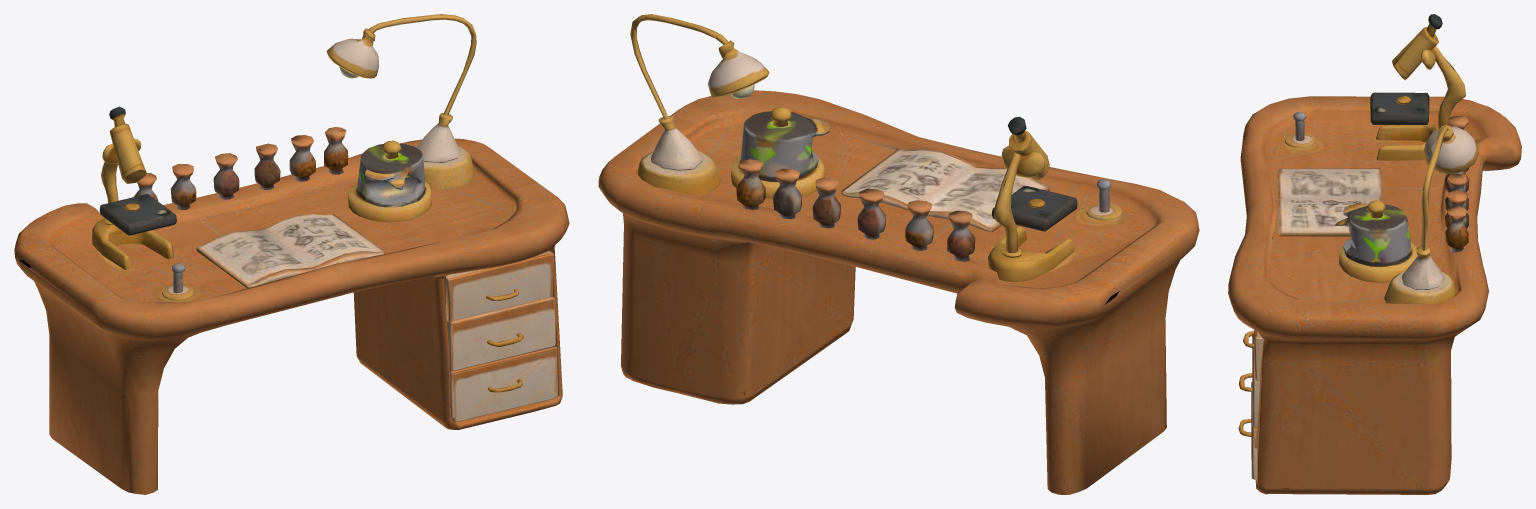
The model's file is research-station.glb.
The picture shows the model from 3 angles, left to right: view 1: azimuth 30°, elevation 25°; view 2: azimuth 150°, elevation 25°; view 3: azimuth 270°, elevation 25°; orthographic projection. The views are drawn at different scales.
Parts seen in each view (by area): view 1: research-station; view 2: research-station; view 3: research-station.
Part boxes in pixels (x1,y1,x2,y2): research-station: (14,14,569,494); research-station: (598,14,1199,494); research-station: (1228,14,1521,494).
Bounding box in the file's own units: 1.6 × 1.1 × 0.9016.
Materials: 1 (1 with a texture image).
